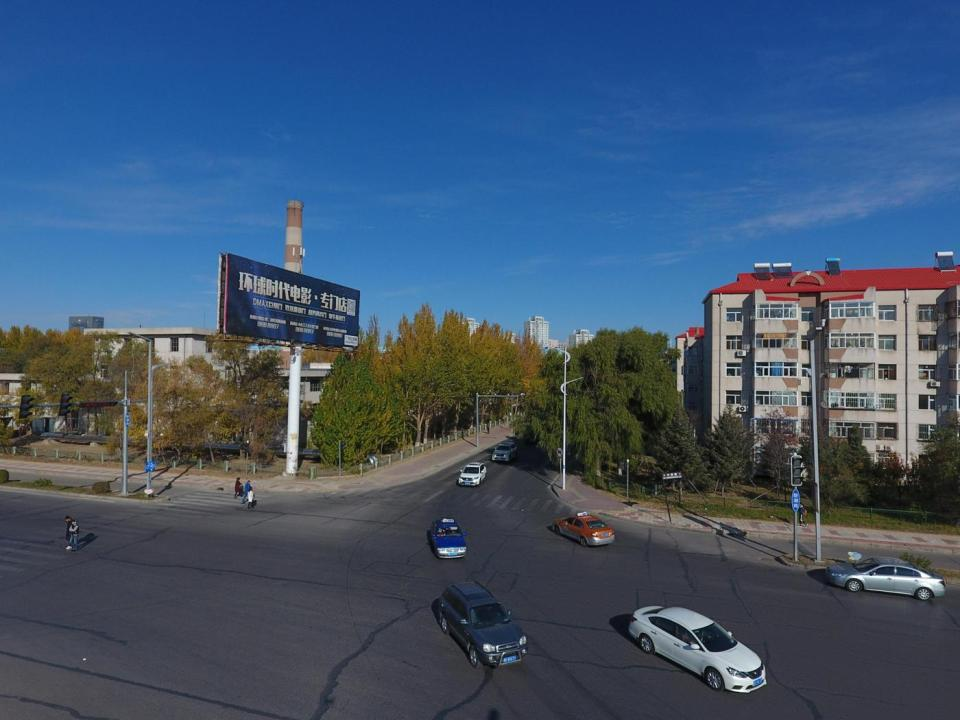car: (628, 605, 767, 692), (438, 580, 528, 667), (824, 557, 946, 600), (552, 512, 614, 546), (428, 518, 467, 559), (459, 461, 488, 486), (492, 439, 518, 464), (526, 426, 546, 441)
